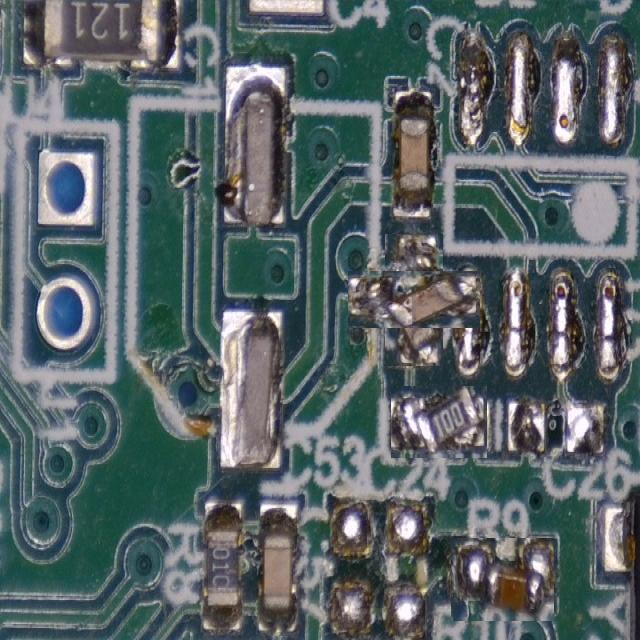Incorrect_installation: (451, 539, 554, 619), (349, 271, 479, 327), (391, 386, 487, 456)
